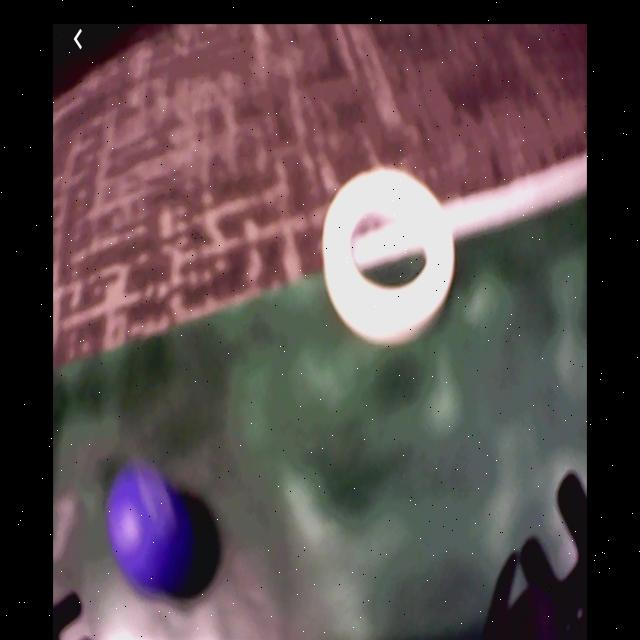ball: (108, 465, 190, 597)
